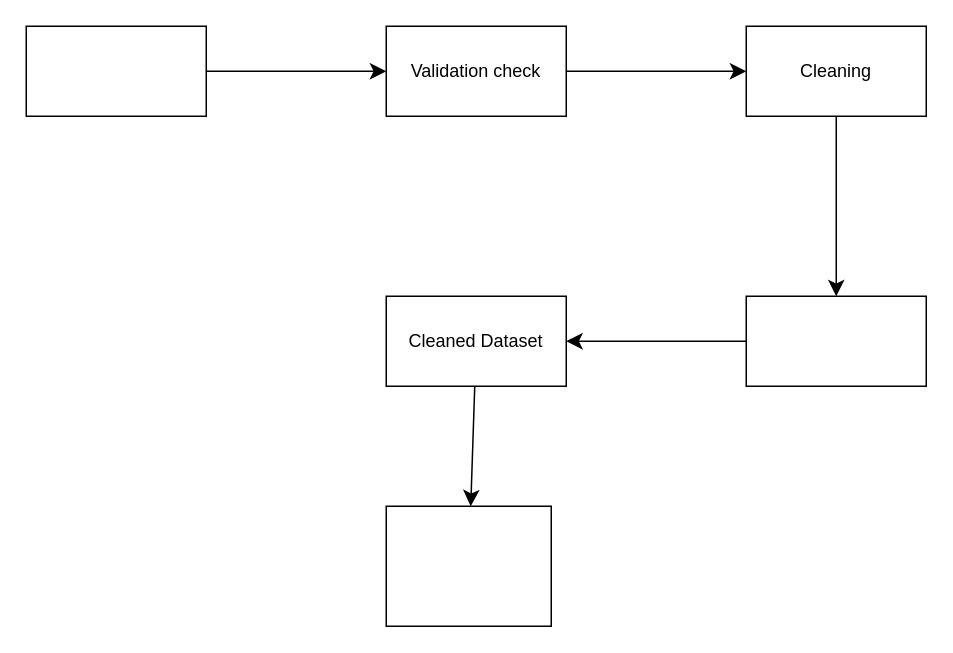
This 953x653 diagram has some shape labels left out. Each missing label, with the box of its shape:
Load Raw CSV (python loader): (25, 25, 206, 116)
Testing: (745, 295, 926, 386)
